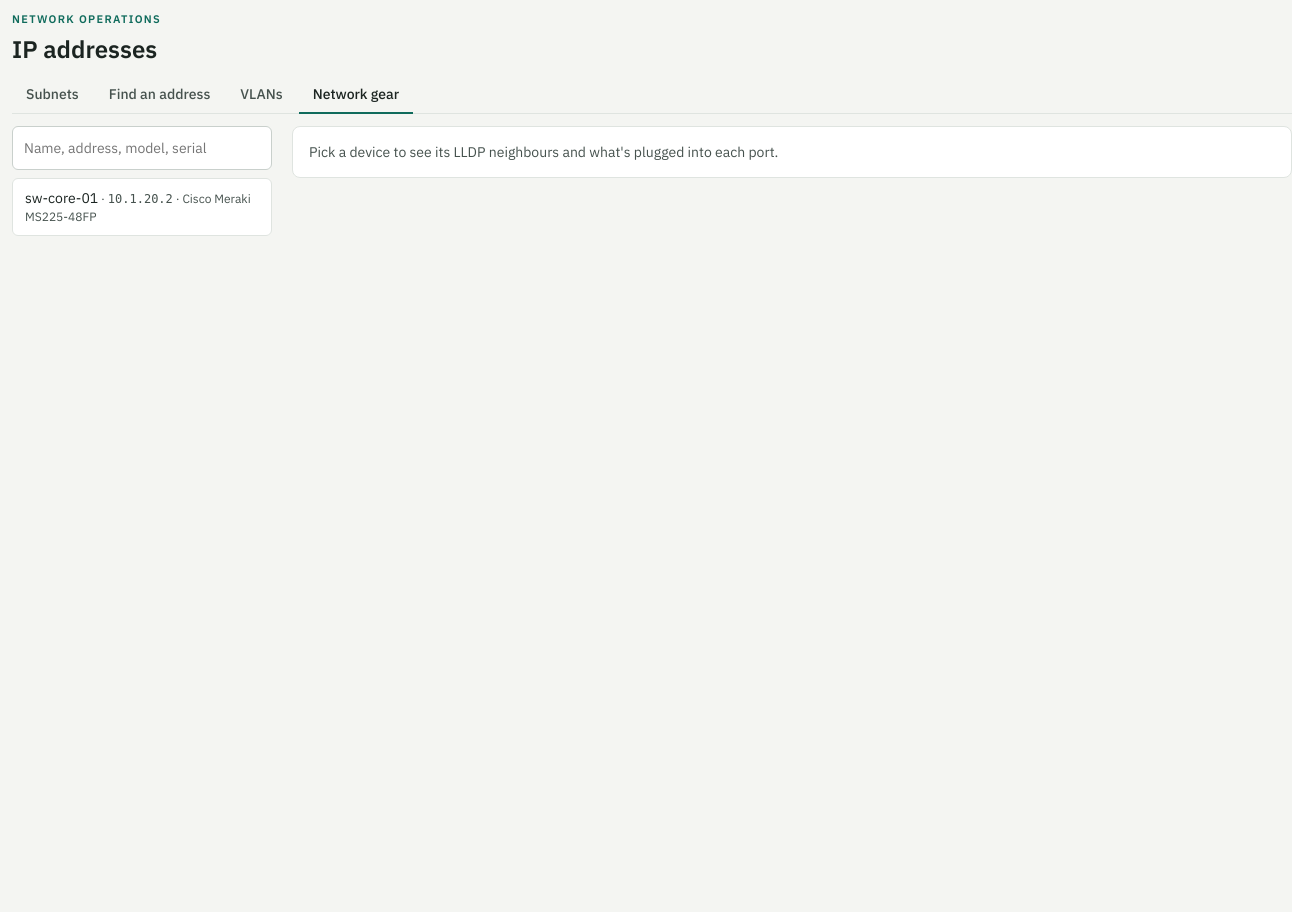
it: network gear: neighbours, what's on each port, and switch ports on addresses
Click the button "sw-core-01 · 10.1.20.2 · Cisco Meraki MS225-48FP": coordinates (142, 207) [12, 178, 272, 236]
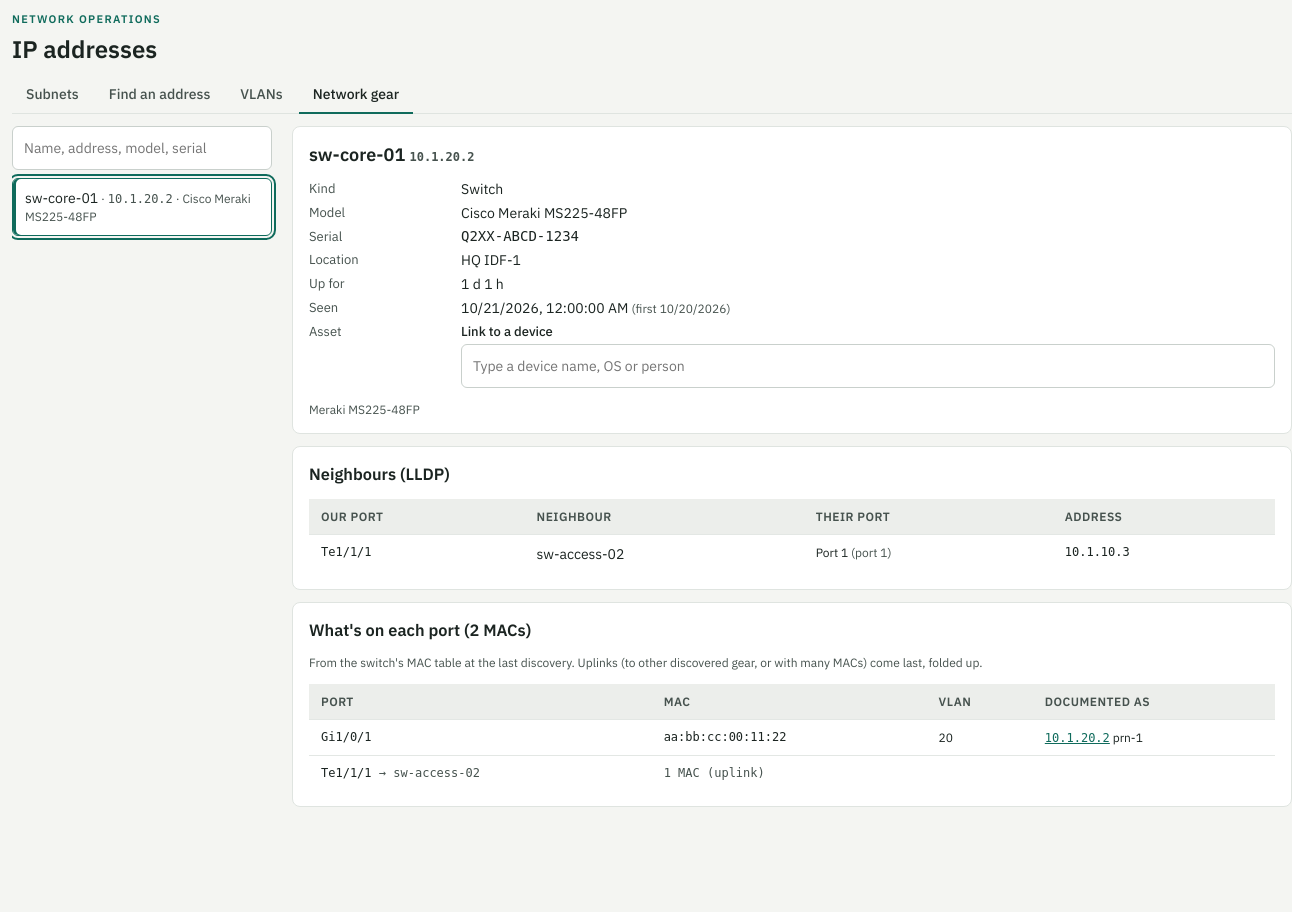
Expected: the text "Cisco Meraki MS225-48FP" is shown, [461, 204, 627, 222]
Expected: the text "1 d 1 h" is shown, [461, 275, 504, 293]
Expected: the text "sw-access-02" is shown, [524, 534, 804, 573]
